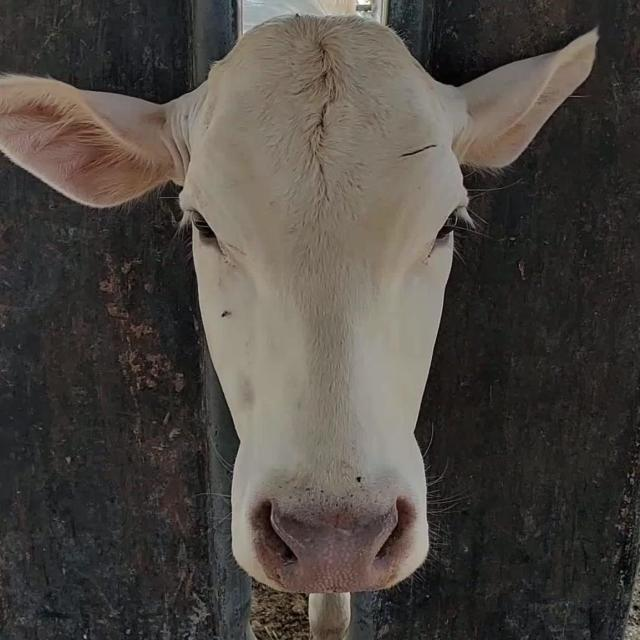cowFace: (182, 16, 468, 586)
